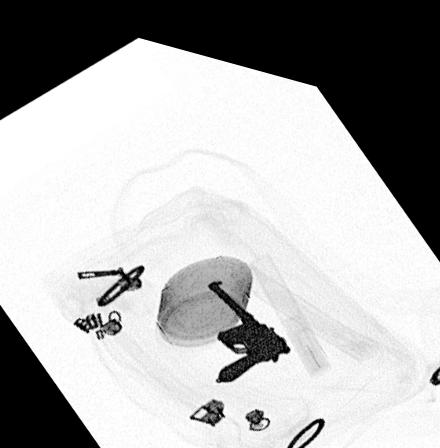Gun: (205, 267, 290, 369)
